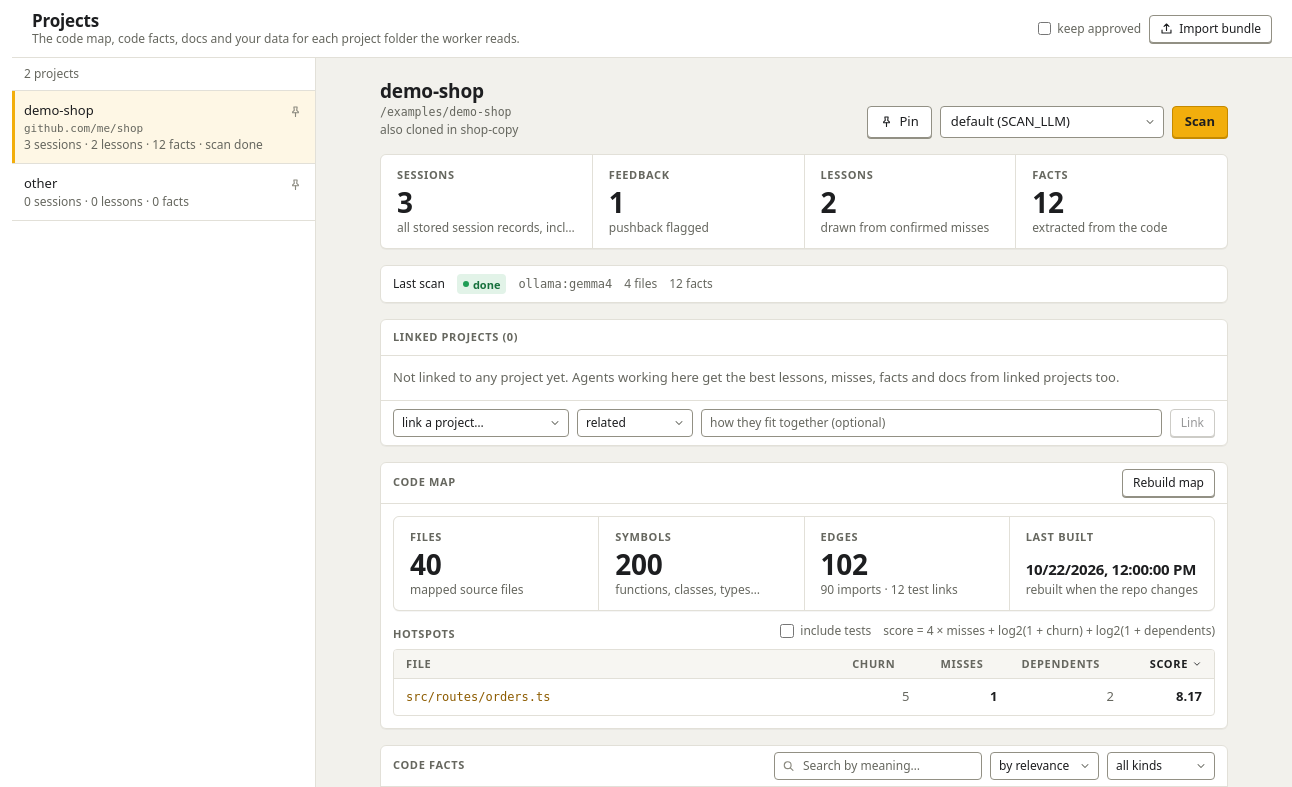
Scenario: scan button queues a scan with the chosen provider
The width and height of the screenshot is (1292, 787).
Select "Codex (subscription)" in the dropdown named "provider" at [1052, 122], box [940, 106, 1164, 138]
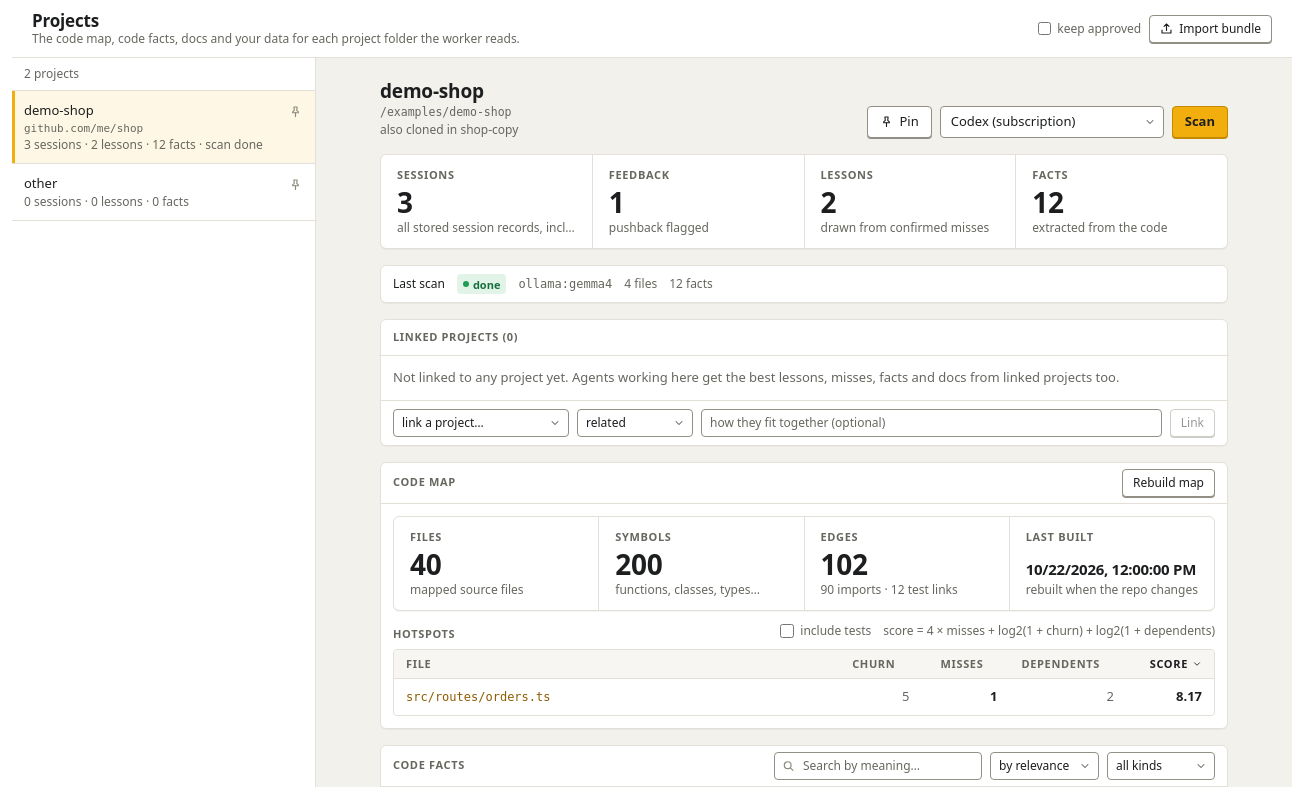
Click the button "Scan" at [1200, 122], box [1172, 106, 1228, 138]
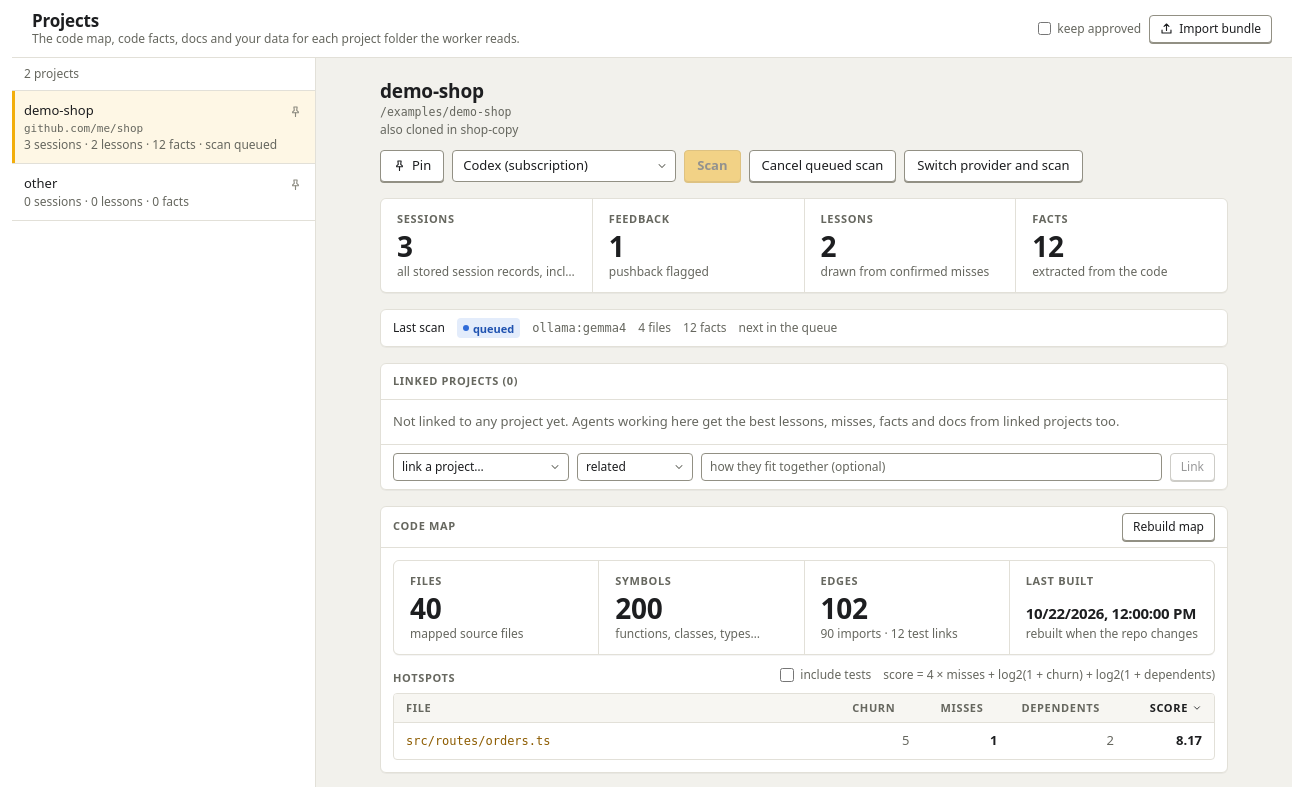
Now the text "queued" is shown, box [457, 318, 520, 338]
